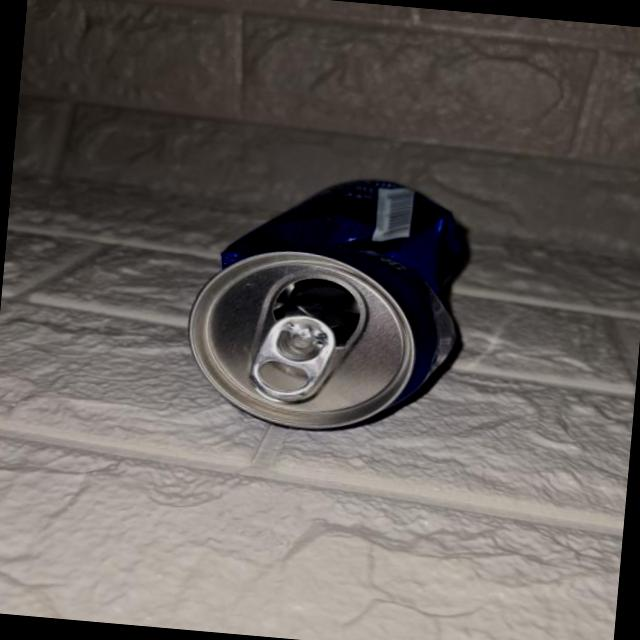trash: (188, 162, 473, 440)
